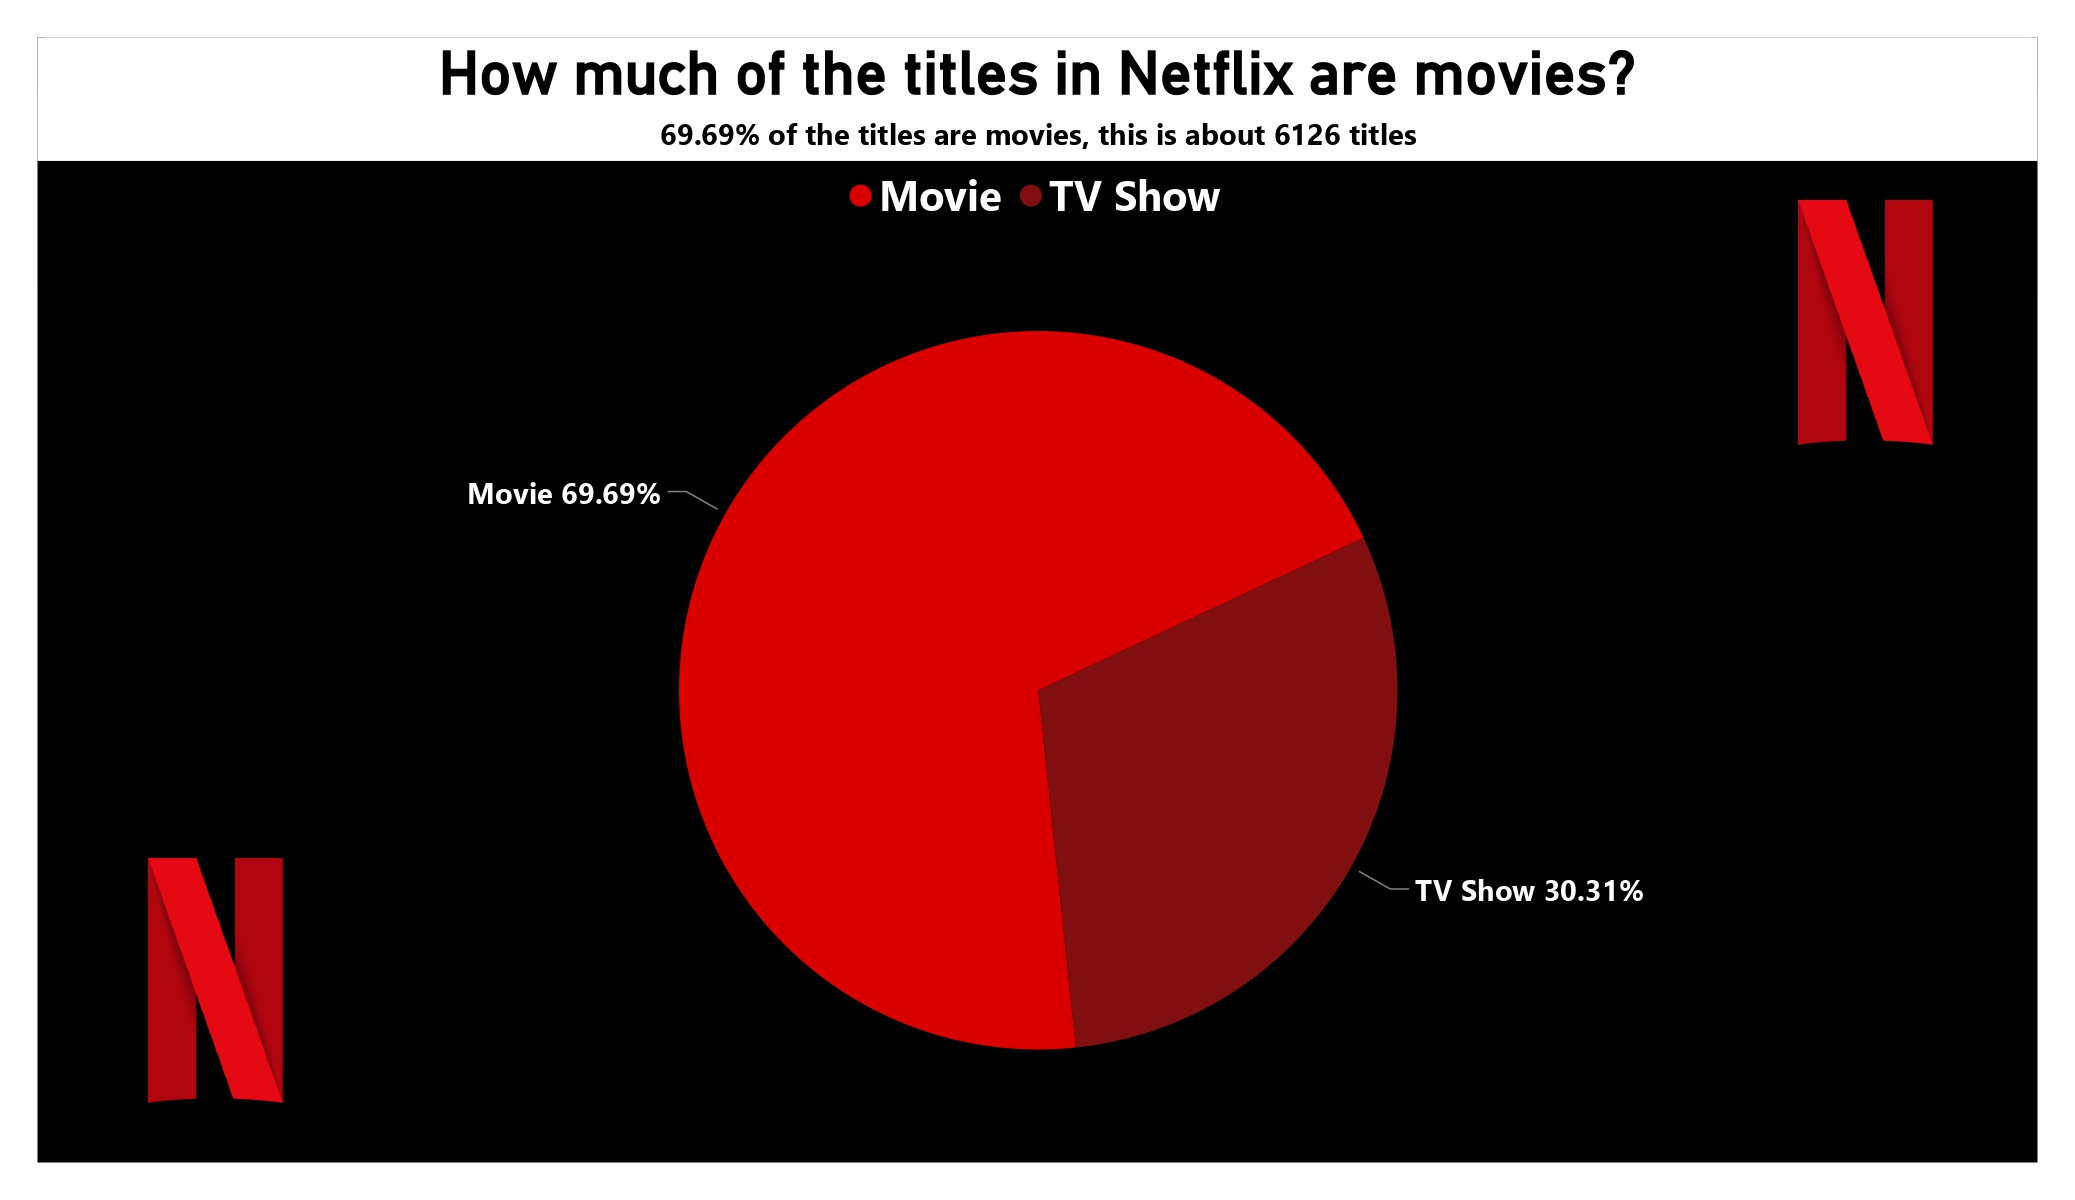

Layout of this report page (visuals, bound fields, positions):
{"tool":"powerbi","page":{"name":"Movies vs Tv Shows","canvas":[1280,720],"ordinal":0},"visuals":[{"type":"pieChart","title":"How much of the titles in Netflix are movies?","fields":{"Category":["2024-02-22T19_55_47+00_00_ttjs.type"],"Y":["CountNonNull(2024-02-22T19_55_47+00_00_ttjs.type)"]},"box":[0,0,1280.6,719.8],"z":0},{"type":"image","box":[1055.7,74,224.9,224.9],"z":1},{"type":"image","box":[0,494.9,224.9,224.9],"z":2}]}

Visuals, with their boxes on the page's 1280x720 design canvas (x1, y1, x2, y2). These are canvas units, not pixel positions in the 2075x1200 screenshot, which may show the page scaled, cropped or inside an application window:
"How much of the titles in Netflix are movies?" pieChart: [x1=0, y1=0, x2=1281, y2=720]
image: [x1=1056, y1=74, x2=1281, y2=299]
image: [x1=0, y1=495, x2=225, y2=720]
